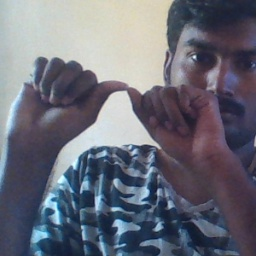A: (51, 54, 194, 155)
